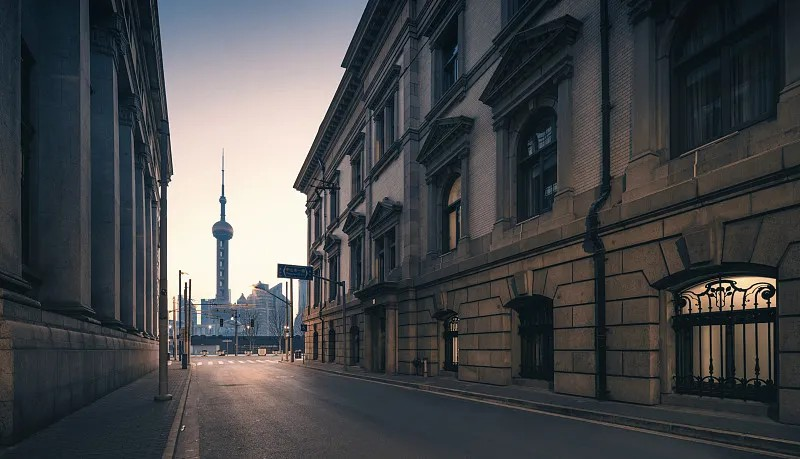Oriental: (212, 149, 234, 298)
